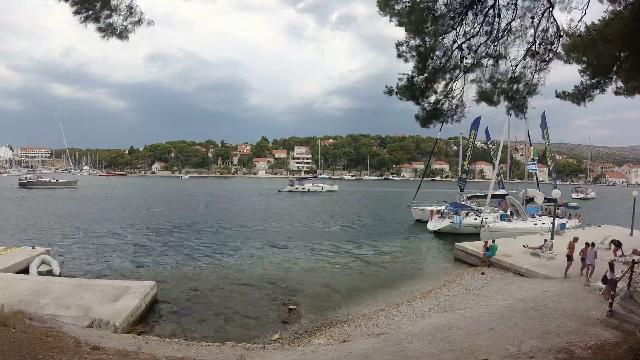Sailboat: (270, 168, 344, 197), (12, 169, 86, 193)
